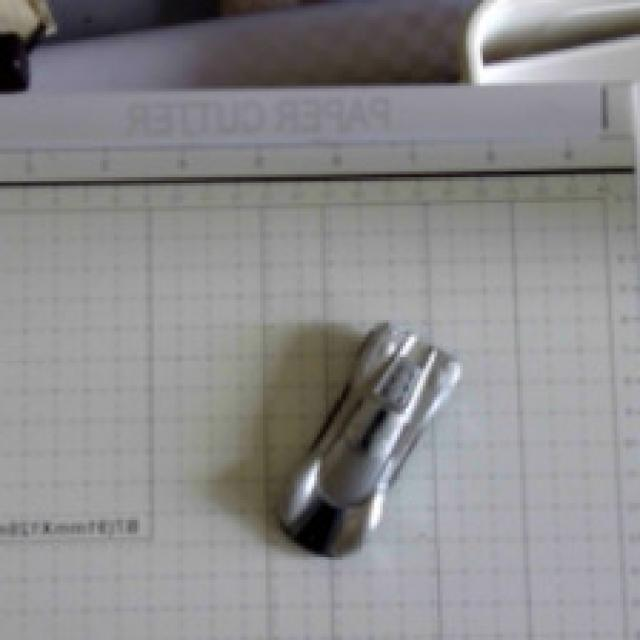Grey Car: (233, 283, 509, 595)
